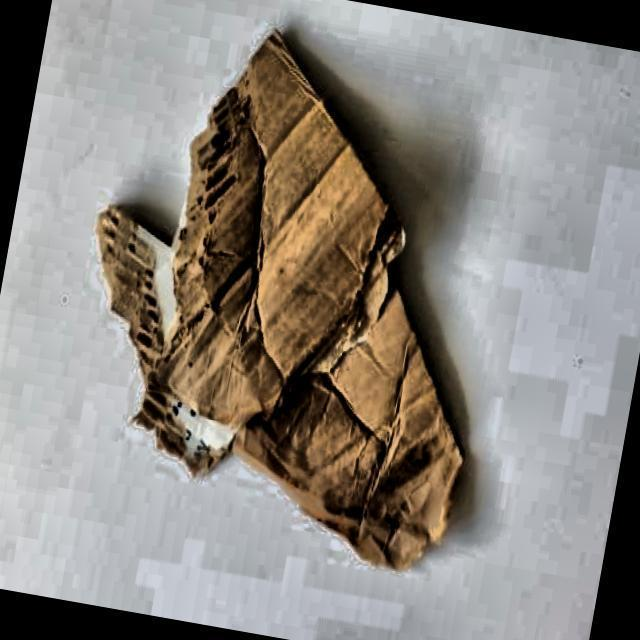cardboard: (45, 5, 531, 582)
